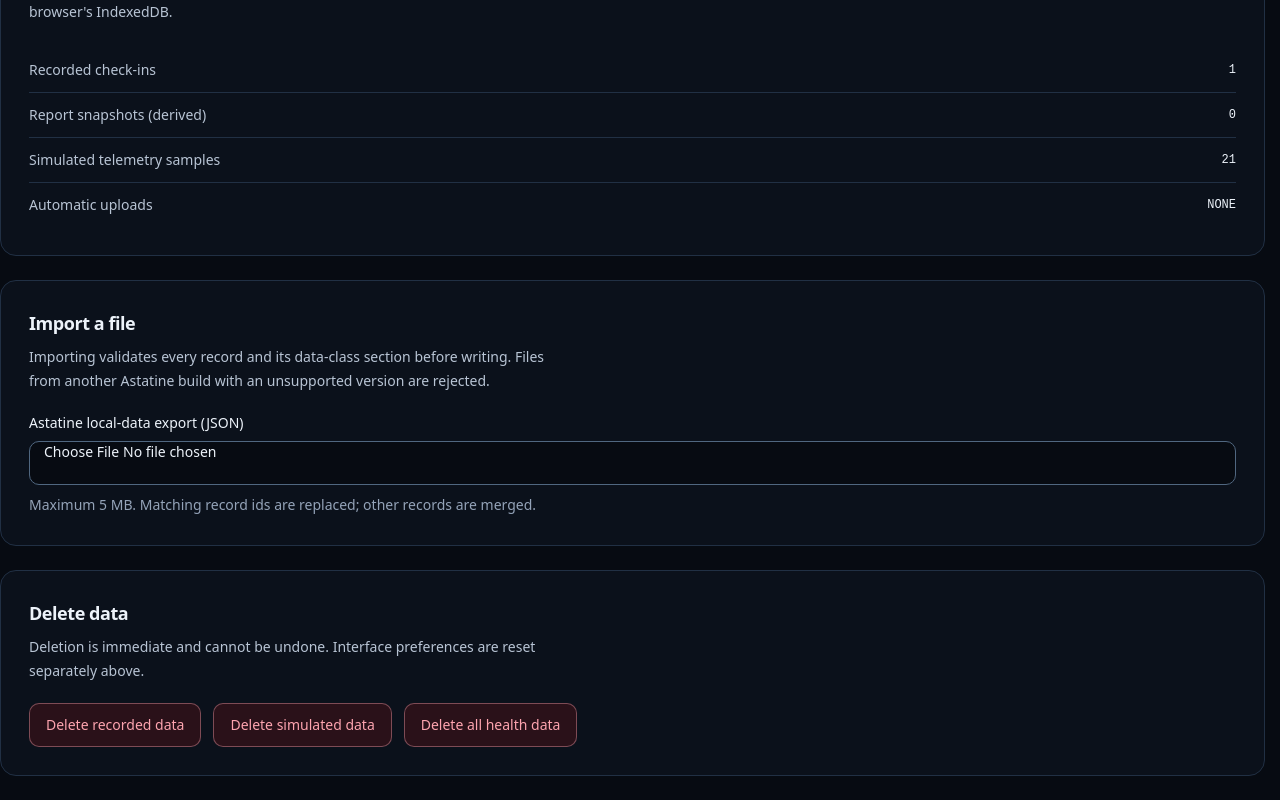
Scenario: LocalDataControls › deletes only the selected data class after confirmation
The width and height of the screenshot is (1280, 800).
(page scrolled)
Expected: the text "Simulated telemetry samples" is shown, [29,150,220,170]
Click the button "Delete simulated data".
click(303, 725)  # box [213,703,392,747]
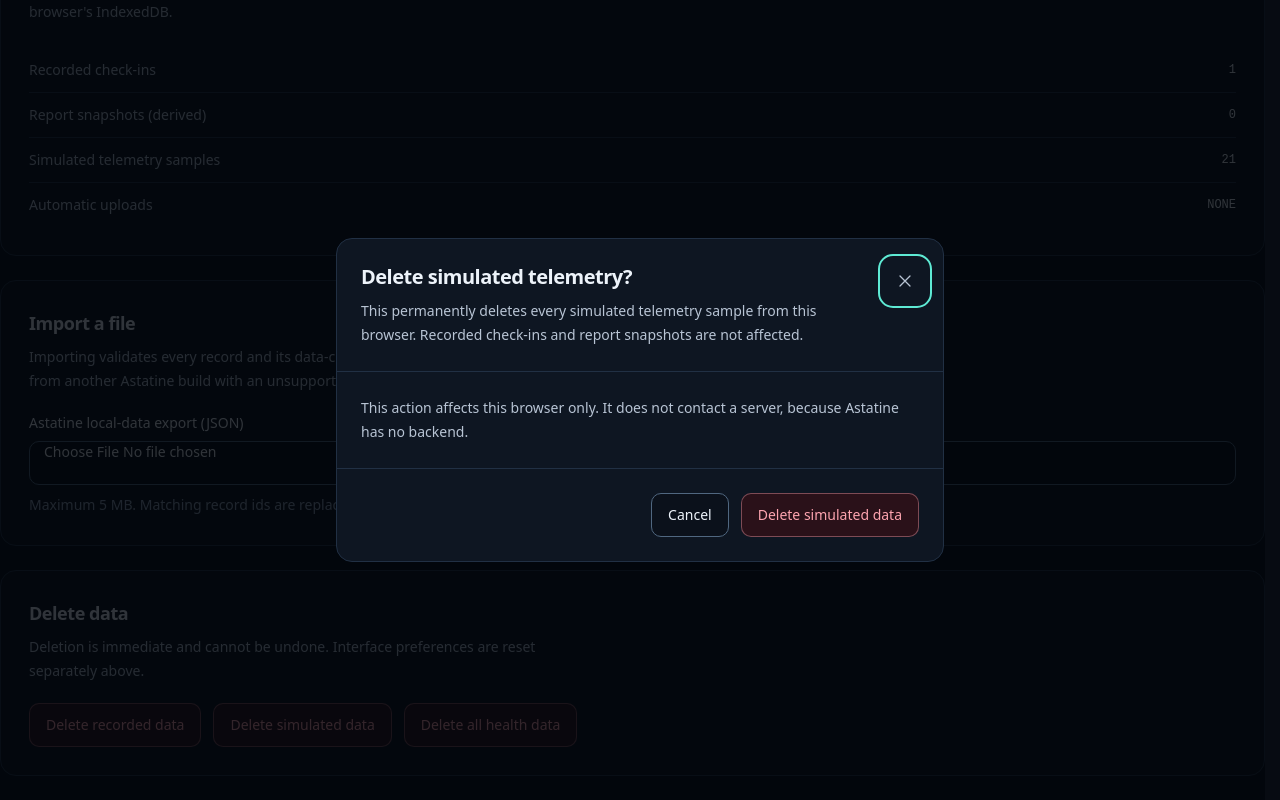
Expected: the heading "Delete simulated telemetry?" is shown, [361,263,632,290]
Click the button "Delete simulated data".
click(830, 515)  # box [741,493,919,537]
(page scrolled)
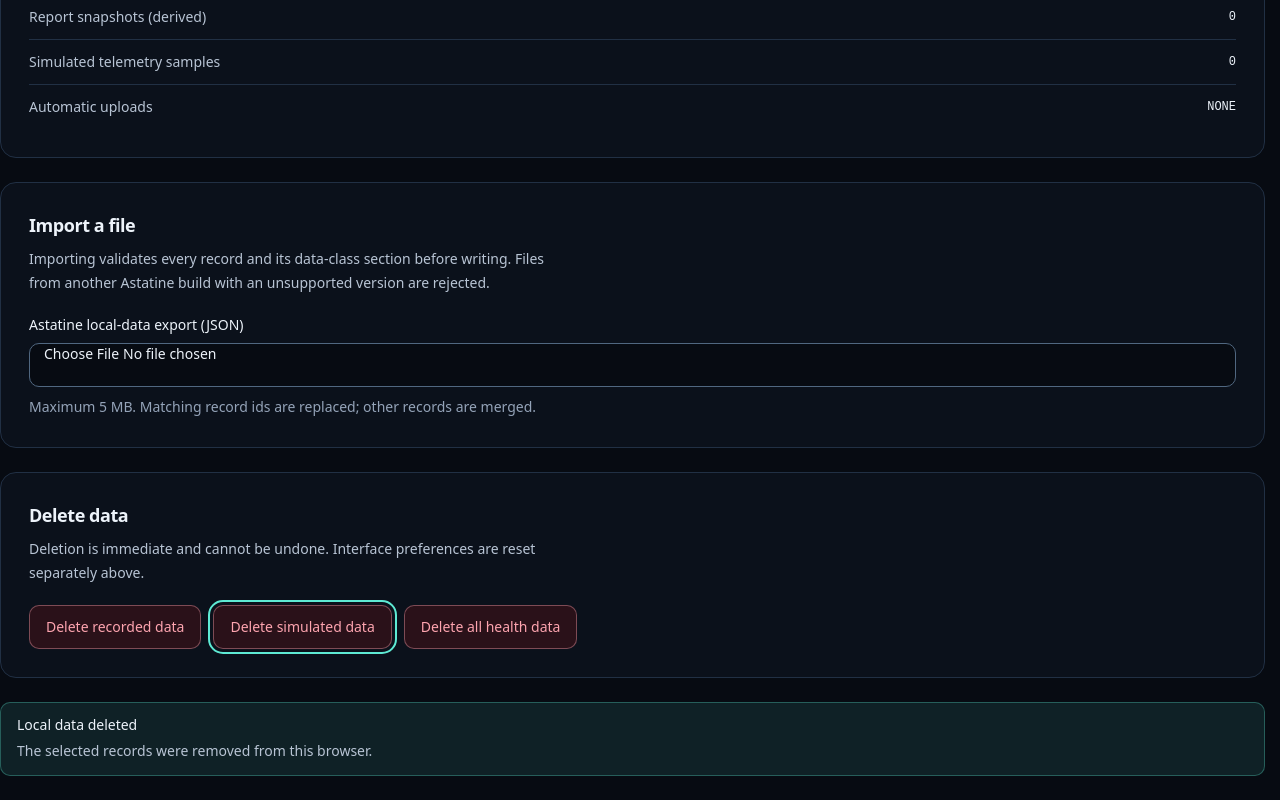
Expected: the text "Local data deleted" is shown, [17,715,137,734]
